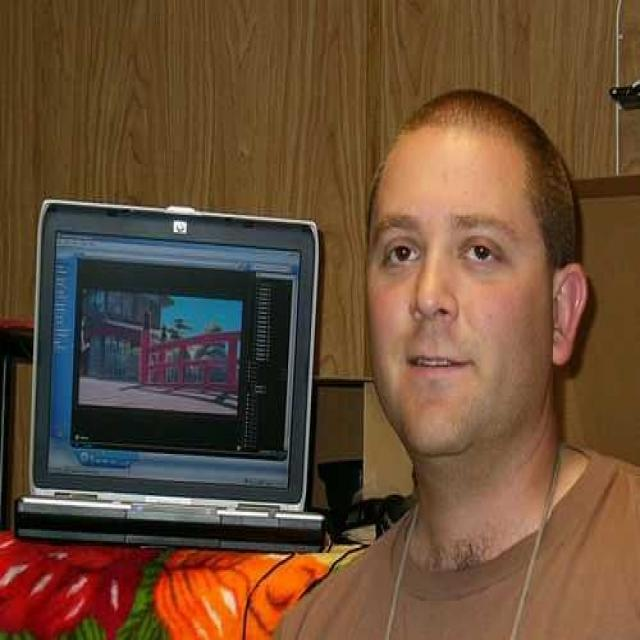laptop: (27, 202, 326, 559)
